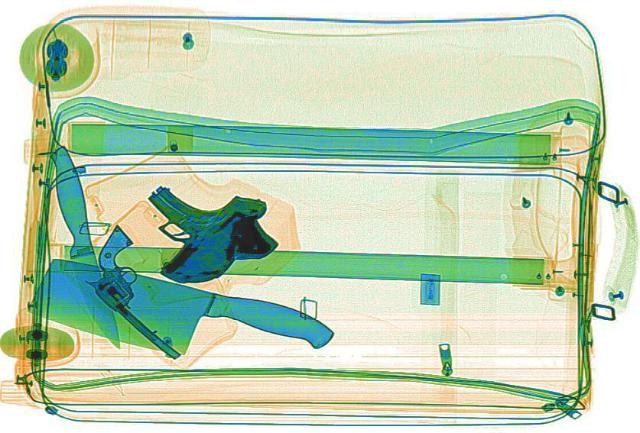Gun: (48, 223, 236, 361), (95, 168, 272, 287)
Knife: (15, 253, 342, 379), (28, 144, 130, 349)
